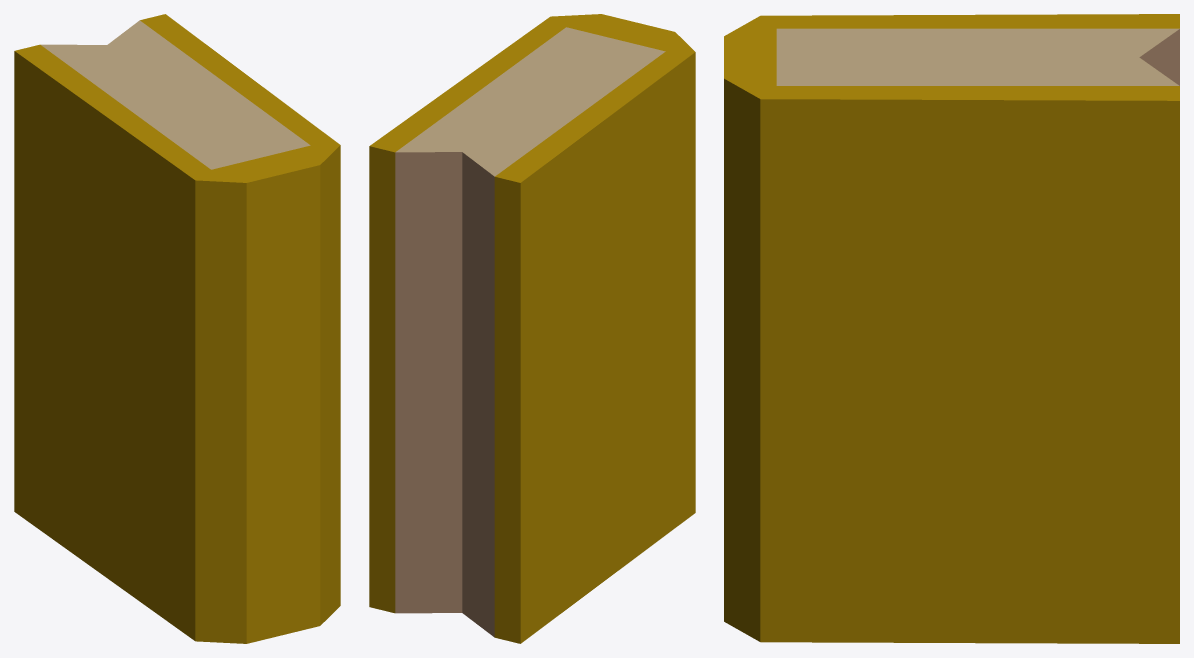
File: TB_D_Prop_Book_C.FBX
3 renders of one model, left to right at view 1: azimuth 30°, elevation 25°; view 2: azimuth 150°, elevation 25°; view 3: azimuth 270°, elevation 25°, orthographic. The views are drawn at different scales.
Parts seen in each view (by area): view 1: TB_D_Prop_Book_C; view 2: TB_D_Prop_Book_C; view 3: TB_D_Prop_Book_C.
Boxes of the visible parts, left/top/right/bottom form: TB_D_Prop_Book_C: left=14, top=14, right=340, bottom=643; TB_D_Prop_Book_C: left=369, top=14, right=695, bottom=643; TB_D_Prop_Book_C: left=724, top=14, right=1179, bottom=643.
Size of the model in its own units: 0.2401 by 0.6998 by 0.5323.
